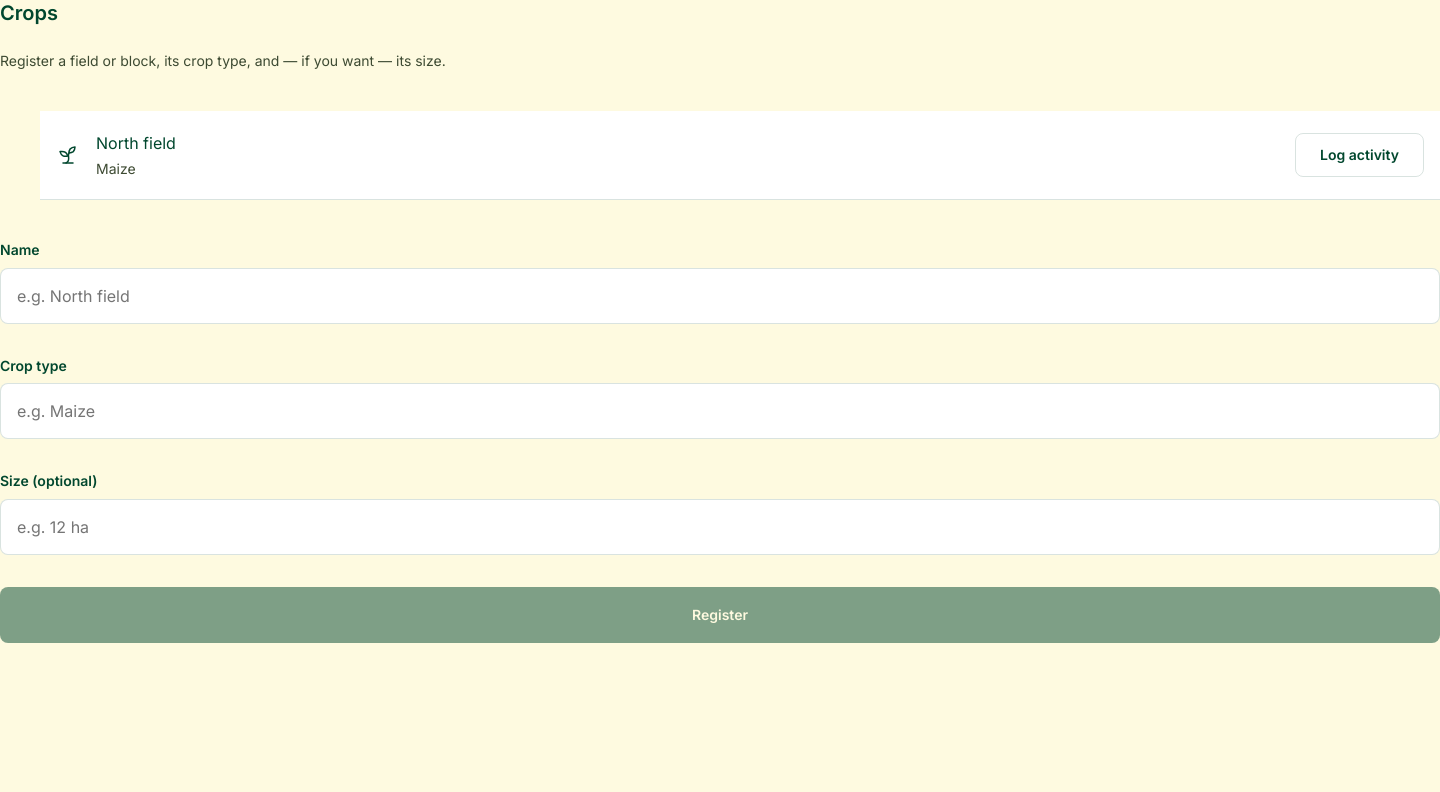
Test: CropsScreen › logs an activity against a field and shows the activity count (E3-02)
This screenshot has width=1440, height=792.
Click the button "Log activity".
click(1360, 155)  # box x1=1295 y1=133 x2=1424 y2=177
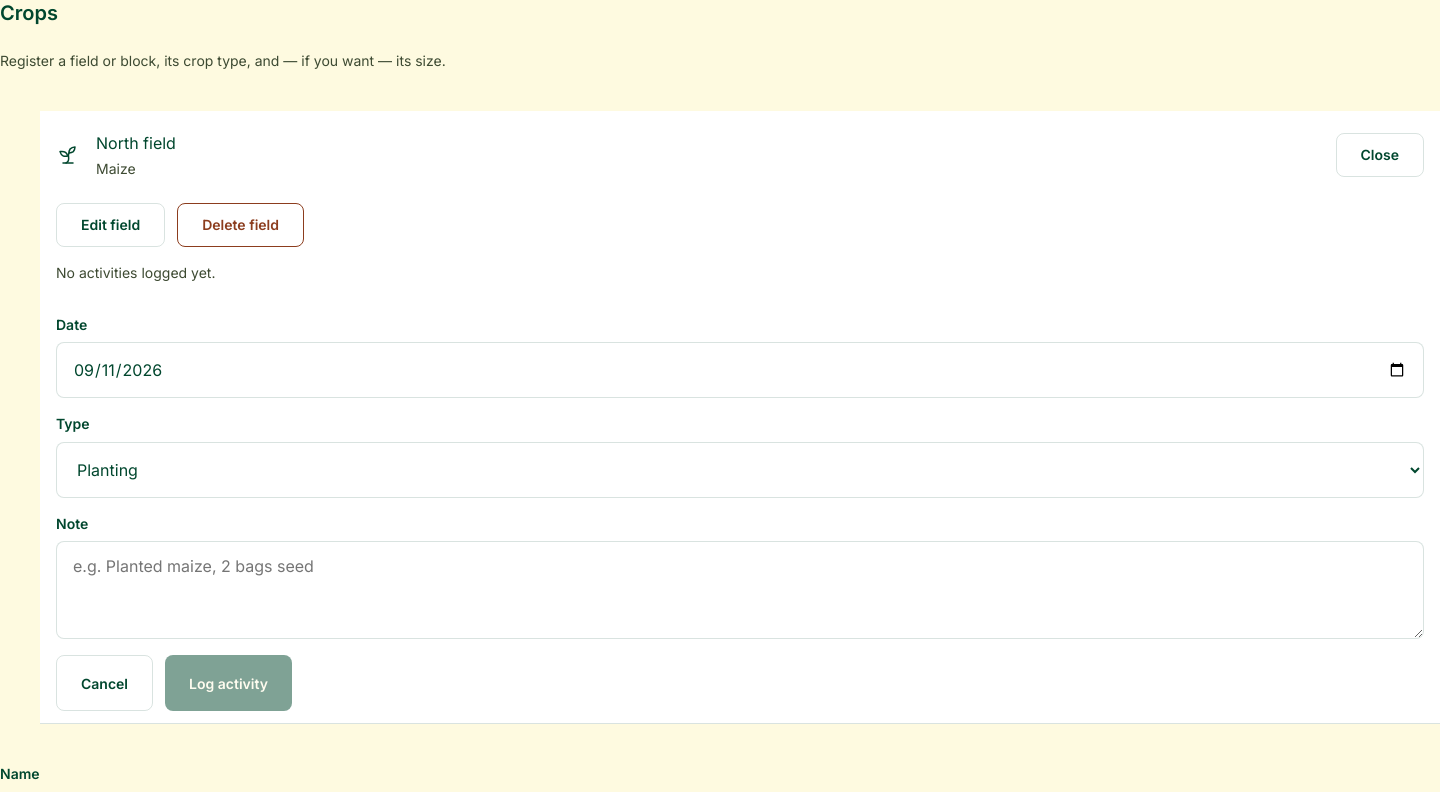
Type "Planted maize" into the text box with test id "activity-note-input".
click(740, 590); type("Planted maize")  # box x1=56 y1=541 x2=1424 y2=639
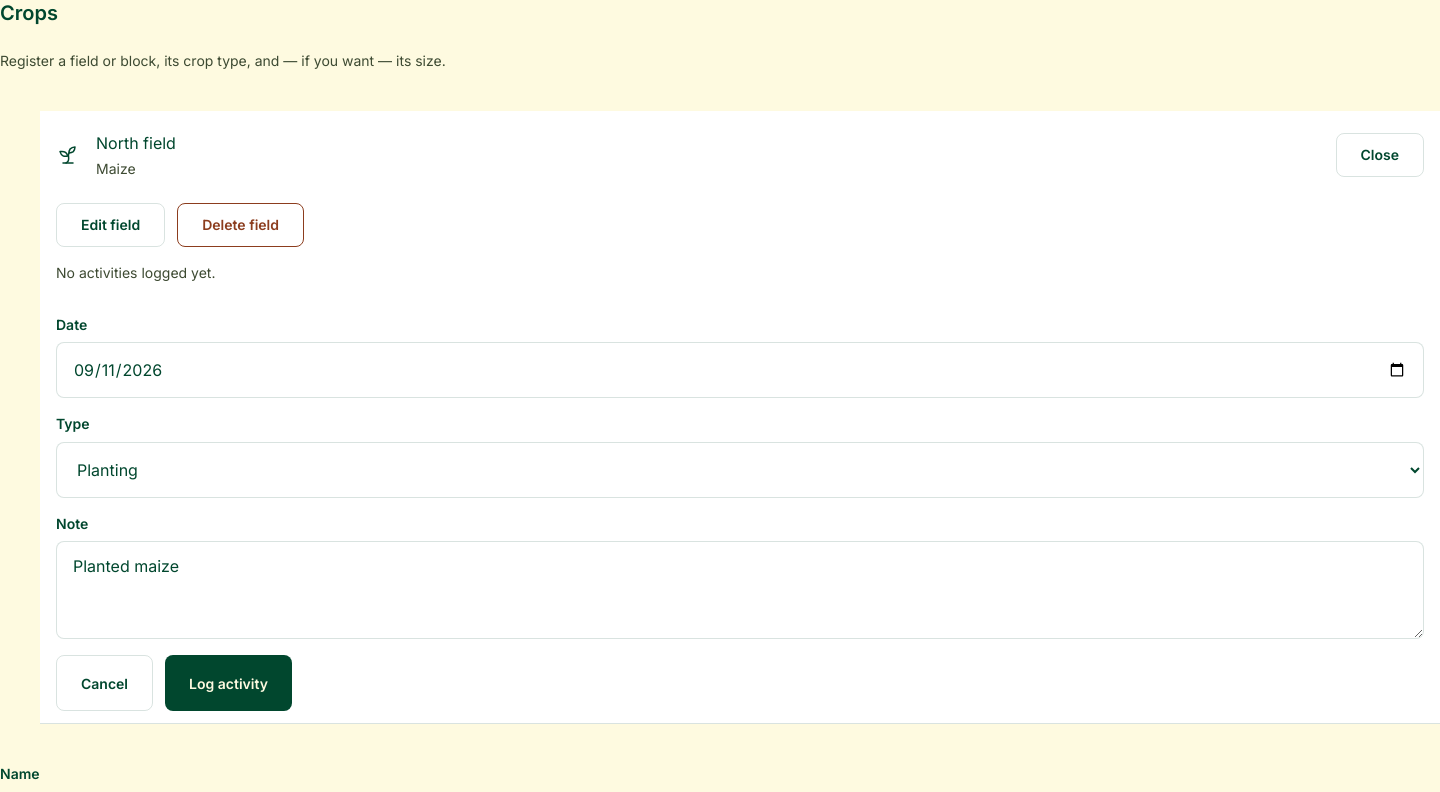
Click the button "Log activity".
click(228, 683)  # box x1=165 y1=655 x2=292 y2=711
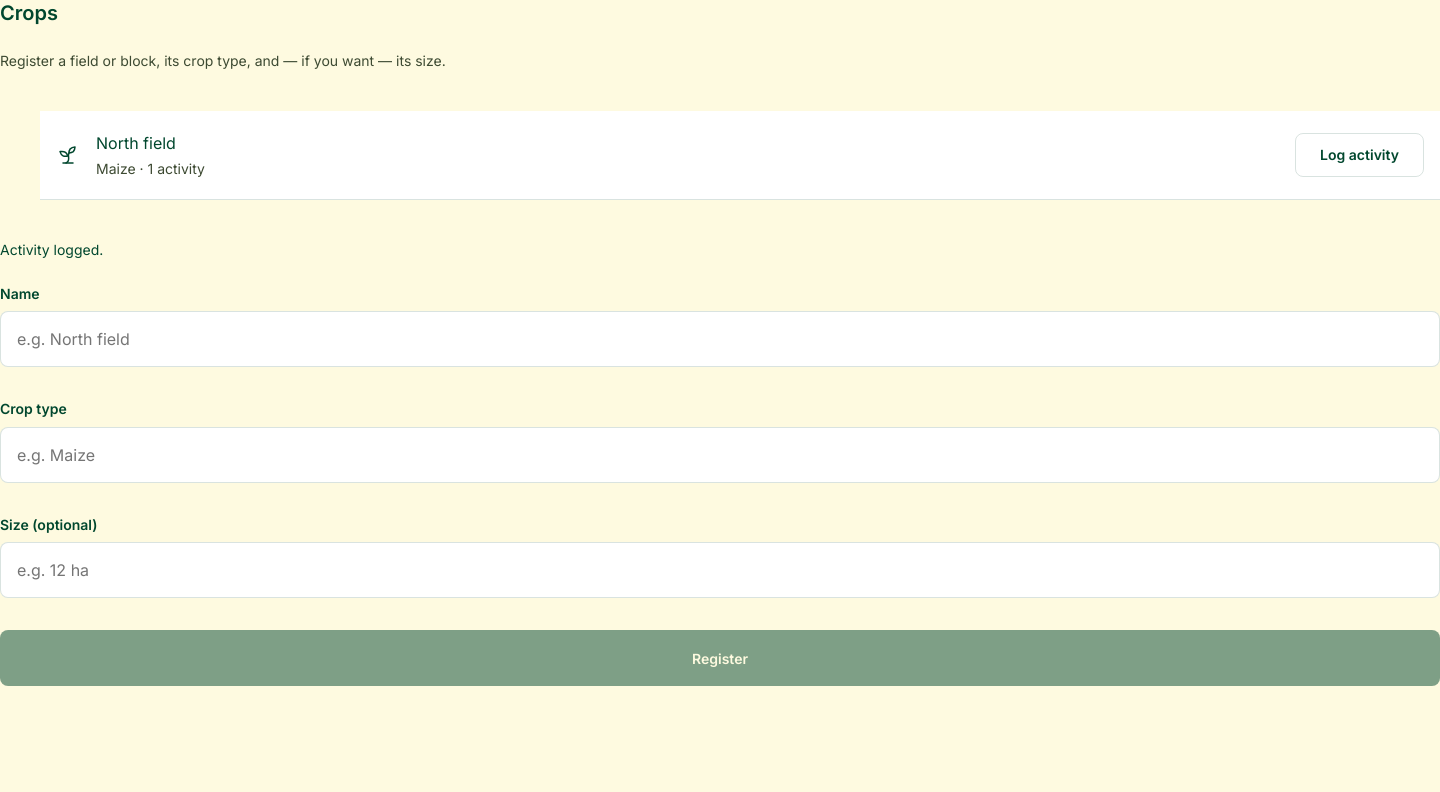
expect the text "Activity logged." is shown: met, box x1=0 y1=241 x2=103 y2=258
expect the text "Maize · 1 activity" is shown: met, box x1=96 y1=160 x2=205 y2=177
